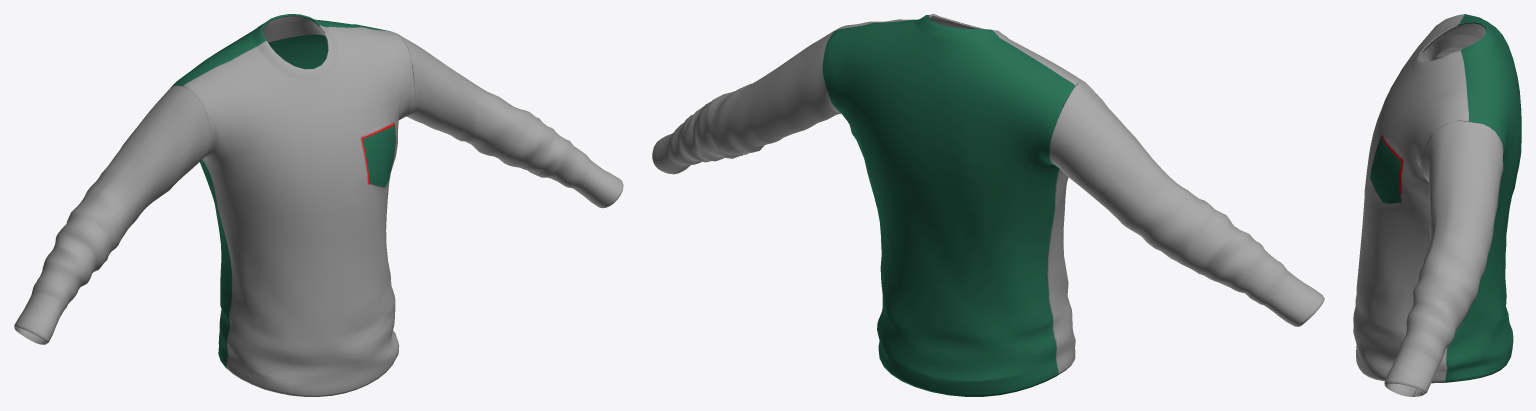
File: formal2.gltf
3 renders of one model, left to right at view 1: azimuth 30°, elevation 25°; view 2: azimuth 150°, elevation 25°; view 3: azimuth 270°, elevation 25°, orthographic. The views are drawn at different scales.
Visible parts, largest first — view 1: Shirt_low; view 2: Shirt_low; view 3: Shirt_low.
Part boxes in pixels (<box>): Shirt_low: <box>14,14,623,396</box>; Shirt_low: <box>652,14,1324,396</box>; Shirt_low: <box>1353,14,1521,396</box>.
Bounding box in the file's own units: 2 × 1.05 × 0.487.
1 material, 1 textured.
